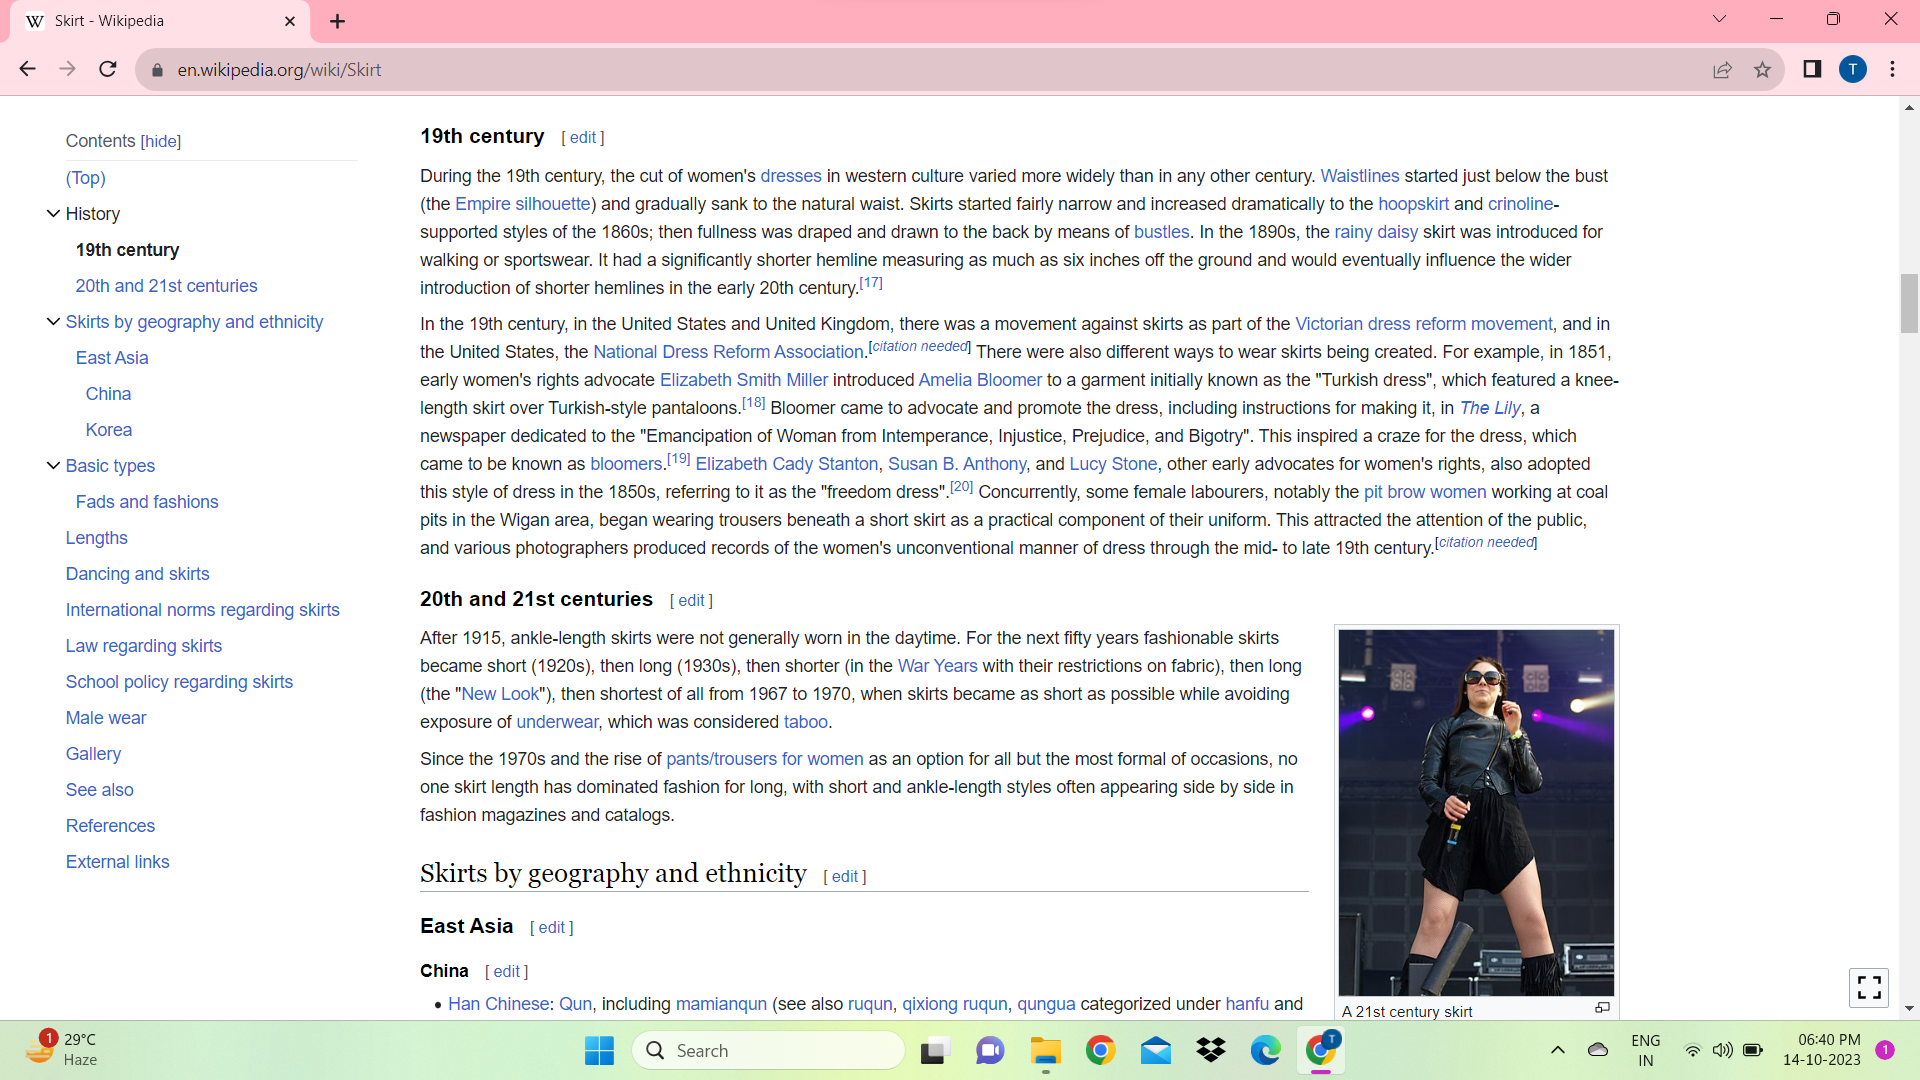Image: (1329, 620, 1622, 1001)
Paragraph: (411, 311, 1621, 559), (411, 166, 1611, 302), (421, 621, 1319, 737), (407, 737, 1312, 828), (394, 837, 815, 909), (58, 593, 345, 624), (417, 583, 658, 617), (58, 309, 336, 332), (58, 669, 299, 695), (67, 272, 265, 298), (54, 556, 220, 584), (50, 125, 190, 156), (61, 634, 233, 658), (401, 913, 525, 945), (418, 125, 553, 153), (51, 851, 177, 880), (65, 237, 190, 265), (58, 807, 166, 837), (75, 492, 227, 513), (58, 777, 145, 804), (58, 454, 157, 477), (58, 705, 156, 729), (58, 737, 128, 770), (69, 410, 140, 442), (57, 522, 129, 553), (67, 345, 156, 367), (411, 956, 475, 984), (61, 203, 129, 227), (75, 380, 142, 404), (62, 169, 119, 187)
